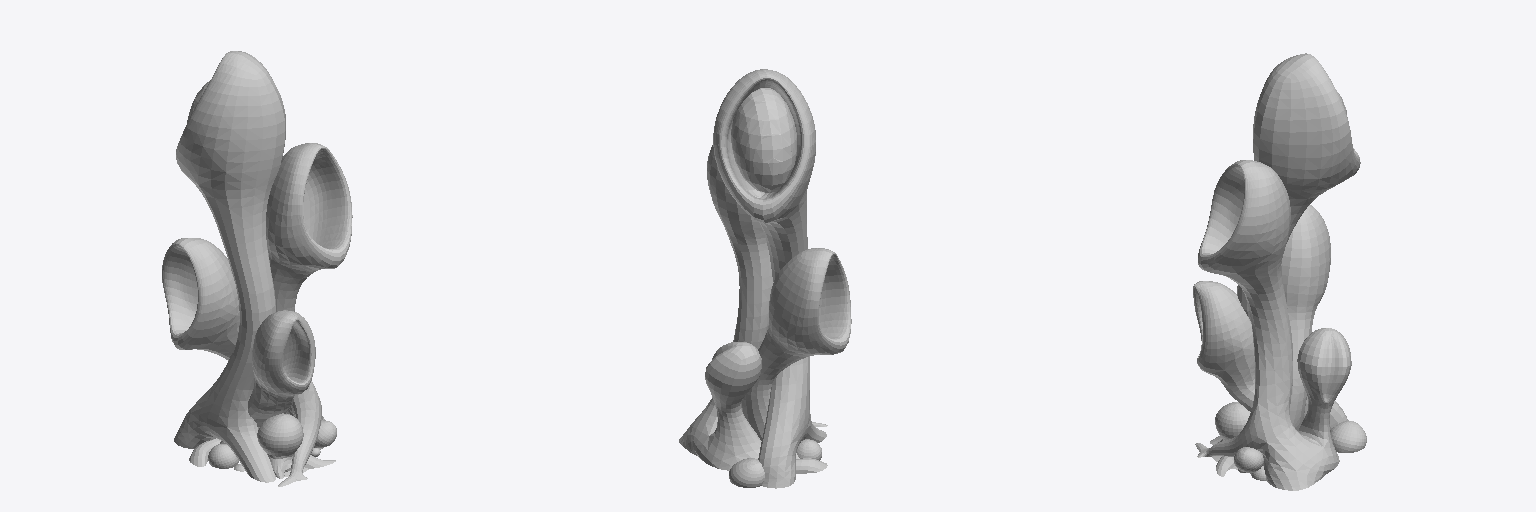
The model's file is tree5.obj.
3 views of the same model, side by side, from view 1: azimuth 30°, elevation 25°; view 2: azimuth 150°, elevation 25°; view 3: azimuth 270°, elevation 25° (orthographic).
Visible parts, largest first — view 1: AlienPlant01; view 2: AlienPlant01, Mball; view 3: AlienPlant01.
Boxes of the visible parts, x1,y1,x2,y2 form: AlienPlant01: [162, 51, 352, 486]; AlienPlant01: [679, 69, 851, 488]; Mball: [731, 88, 796, 192]; AlienPlant01: [1193, 53, 1366, 490].
Bounding box in the file's own units: 10.96 × 25.52 × 10.27.